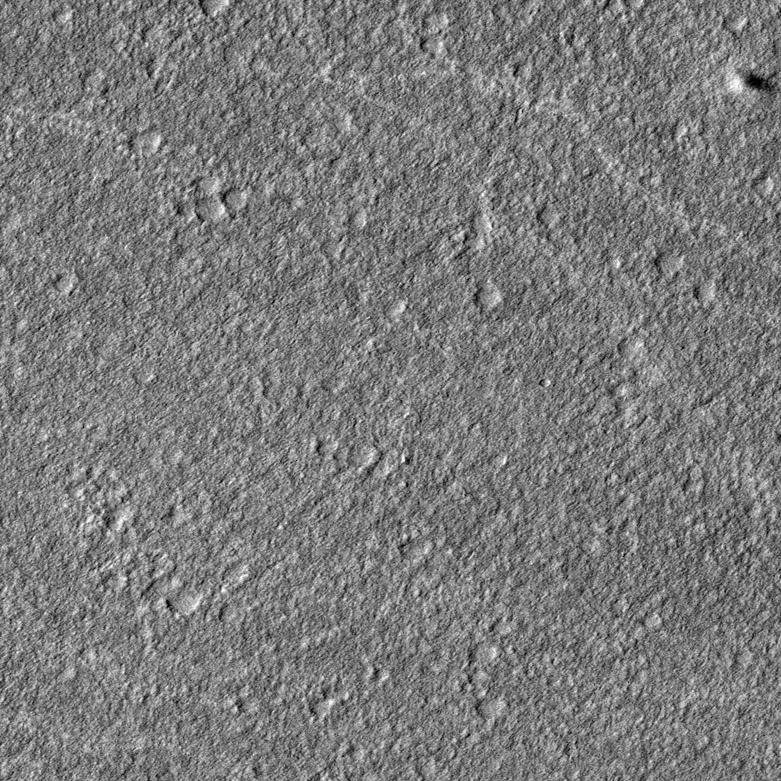dust_devil: (724, 67, 777, 97)
